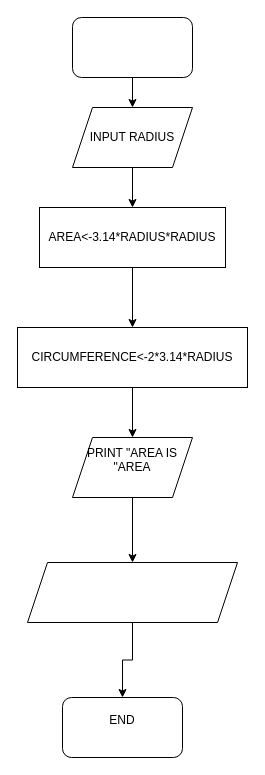
This 265x775 diagram has some shape labels left out. Here are the shapes that lost their labels. From the top down, the centre of each, then its label:
pixel 132 47: START
pixel 132 592: PRINT "CIRCUMFERENCE IS "CIRCUMFERENCE
